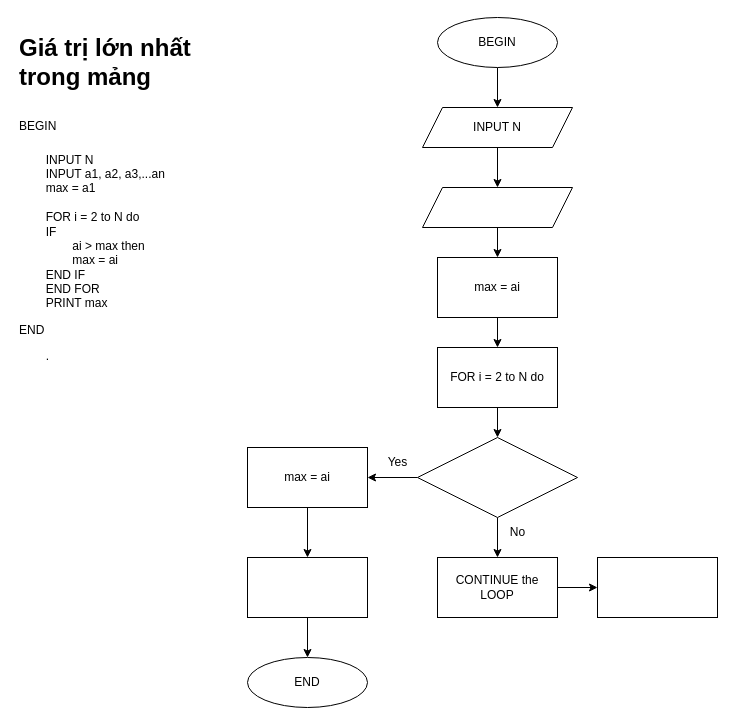
The diagram is 735 pixels wide and 725 high, and some of its shapes have lost their labels. Here are the shapes that lost their labels. From the top down, the centre of each, then its label:
At (x=497, y=207): "INPUT a1, a2, a3,...an".
At (x=497, y=477): "ai > max".
At (x=307, y=587): "PRINT max".
At (x=657, y=587): "i = i + 1".
